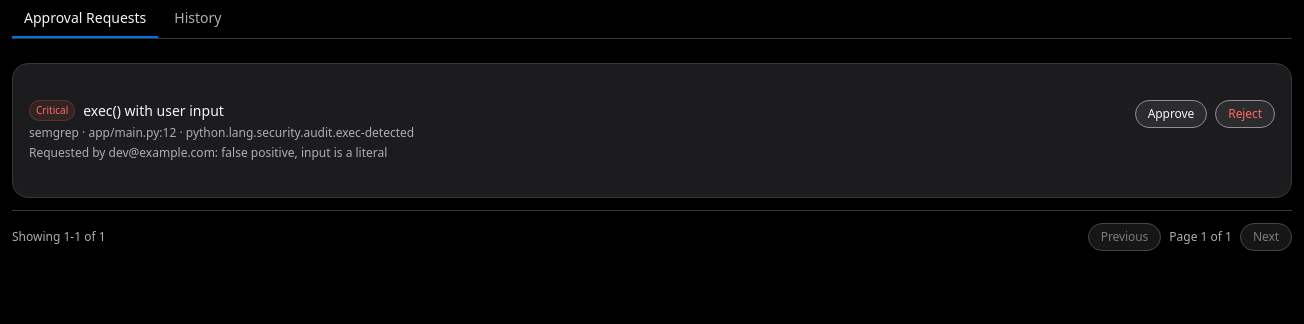
Test: ApprovalQueue › surfaces a failed rejection on the row it belongs to, keeping the typed reason
The width and height of the screenshot is (1304, 324).
Click the button "Reject" at (1245, 114), box [1215,100,1275,128]
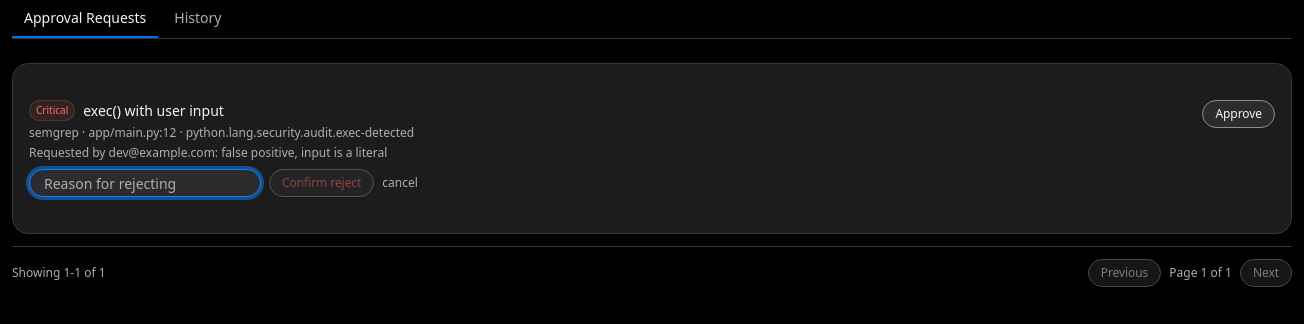
Type "not valid here" into the field with placeholder "Reason for rejecting" at (145, 183), box [29,169,261,197]
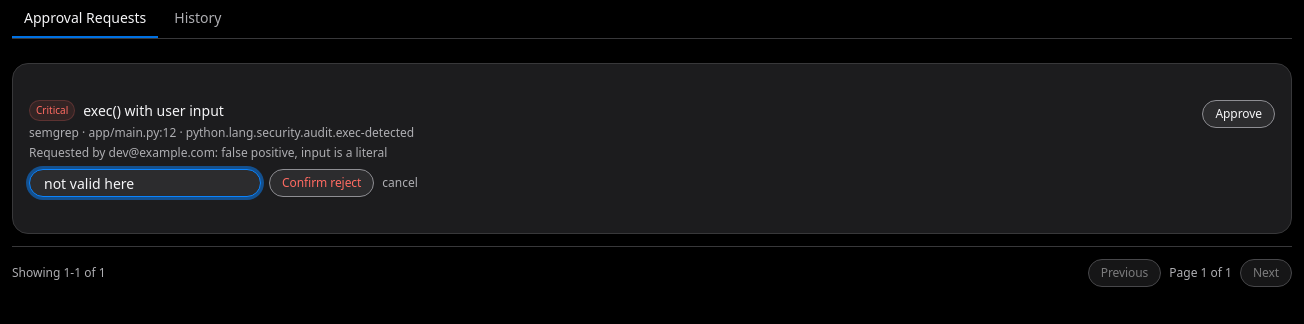
Click the button "Confirm reject" at (322, 183), box [269,169,374,197]
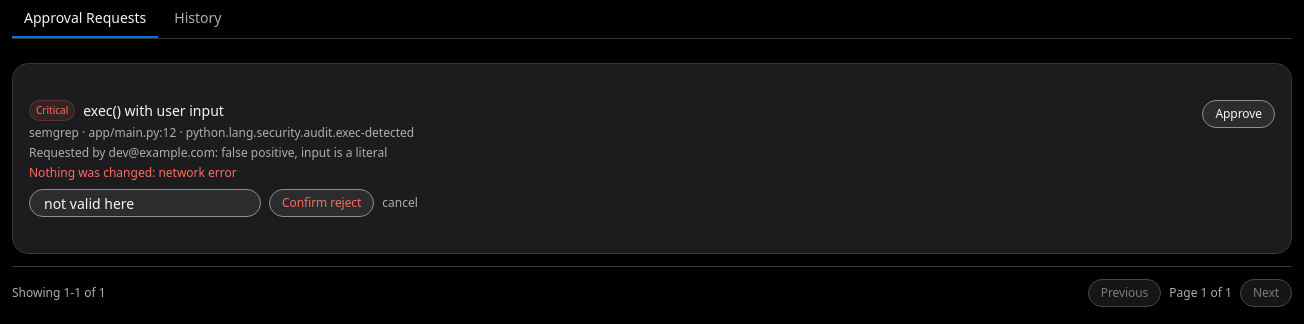
Expected: the text "Nothing was changed: network error" is shown, [29,164,237,181]
